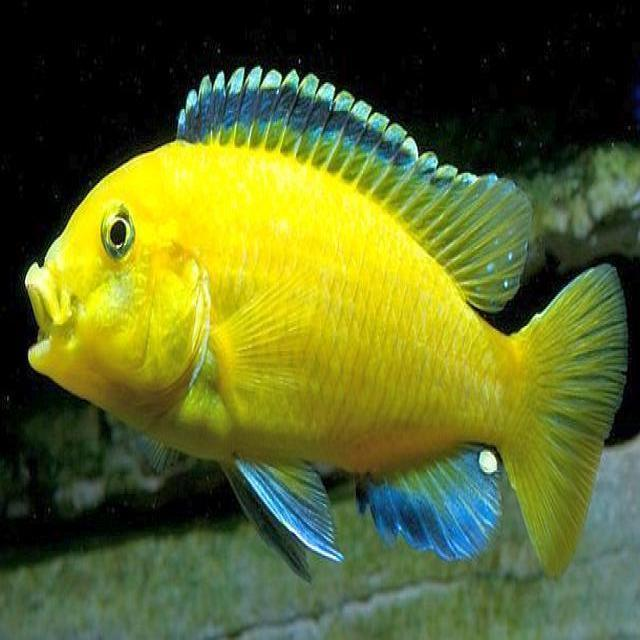YellowCichlid: (16, 49, 636, 600)
